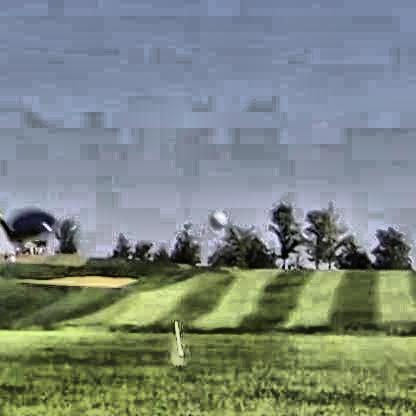golfball: (207, 207, 224, 227)
